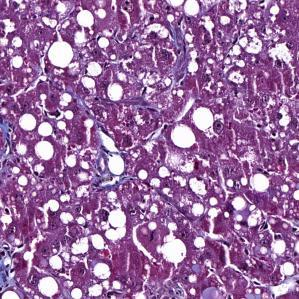fibrosis: (164, 20, 194, 86)
